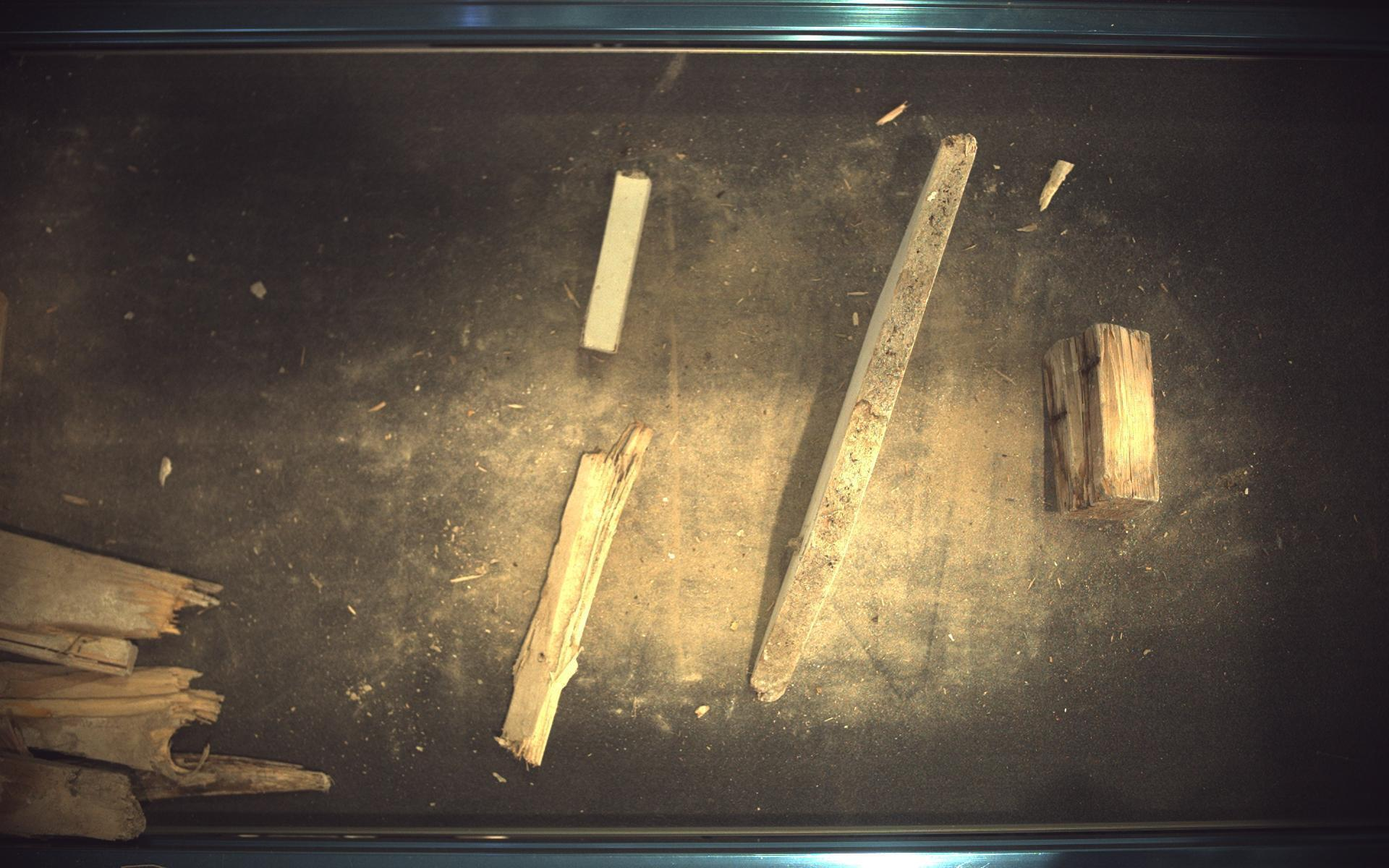wood: (752, 133, 979, 703), (497, 422, 653, 767), (1, 530, 221, 676), (1, 663, 223, 780), (1047, 323, 1162, 520), (582, 170, 652, 353), (1, 763, 145, 842), (132, 753, 331, 802)
